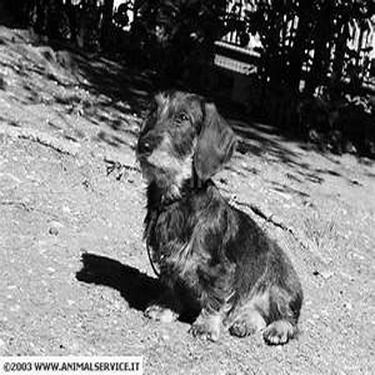dog: (115, 83, 311, 353)
